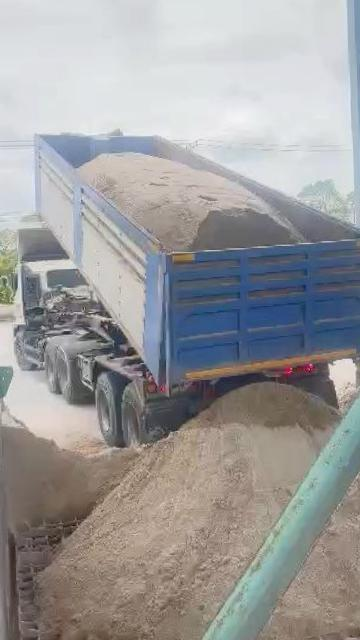sand: (39, 383, 338, 640), (79, 153, 305, 250), (260, 444, 360, 640), (2, 420, 138, 530), (340, 384, 360, 411)
